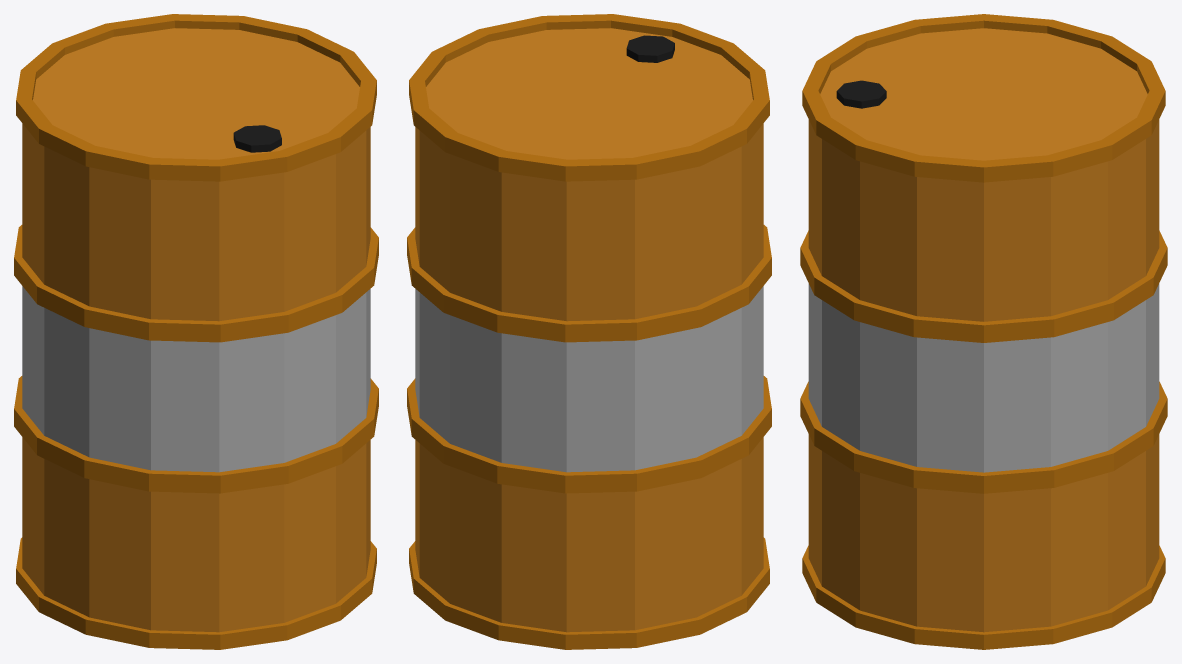
The model's file is Barrel_04.fbx.
3 views of the same model, side by side, from view 1: azimuth 30°, elevation 25°; view 2: azimuth 150°, elevation 25°; view 3: azimuth 270°, elevation 25° (orthographic).
Parts seen in each view (by area): view 1: Barrel_04; view 2: Barrel_04; view 3: Barrel_04.
Boxes of the visible parts, bbox=[...] form: Barrel_04: bbox=[14, 14, 378, 649]; Barrel_04: bbox=[407, 14, 771, 649]; Barrel_04: bbox=[800, 14, 1167, 649].
Bounding box in the file's own units: 60.7 × 88 × 60.7.
